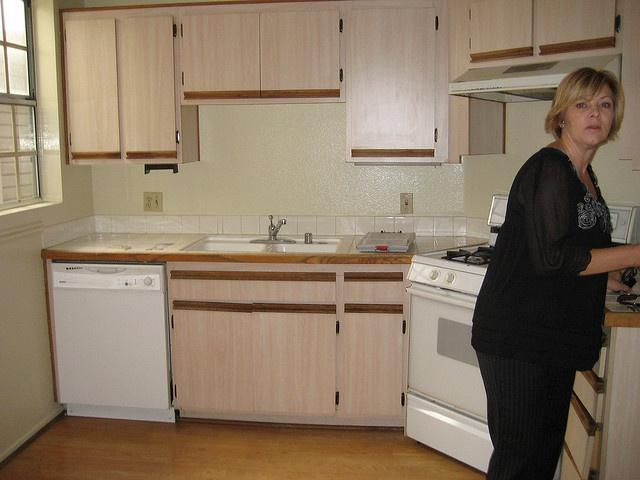Lemari: (63, 0, 457, 165)
